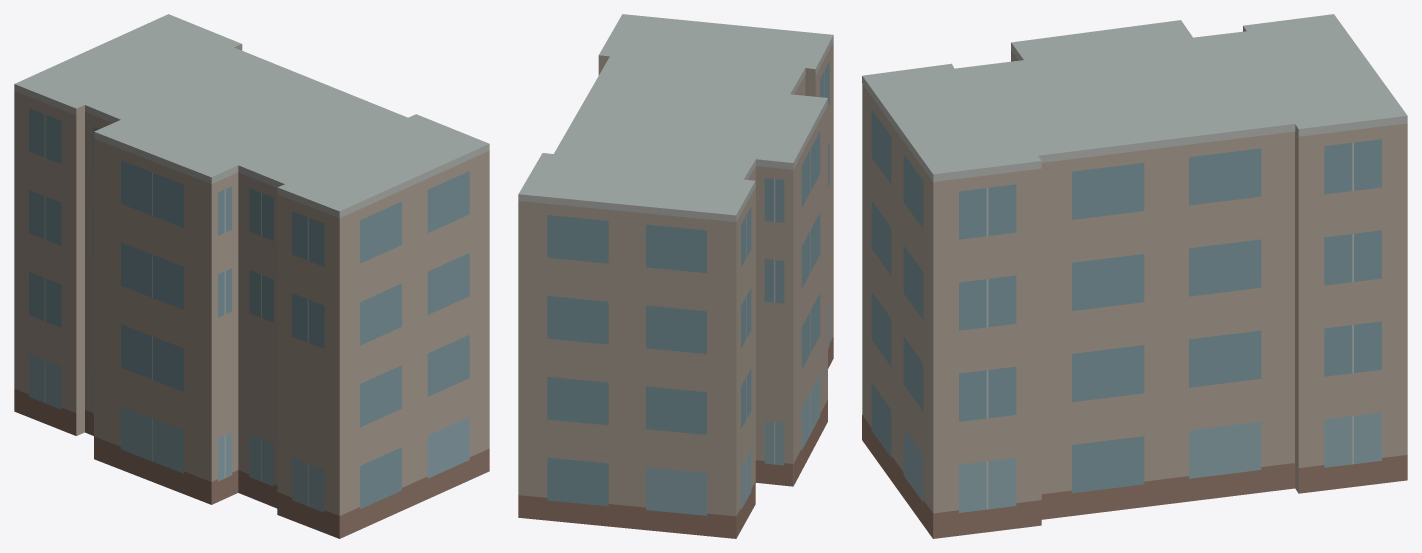
File: survey-upis-32590545.glb
The picture shows the model from 3 angles, left to right: view 1: azimuth 30°, elevation 25°; view 2: azimuth 150°, elevation 25°; view 3: azimuth 270°, elevation 25°; orthographic projection. The views are drawn at different scales.
Visible parts, largest first — view 1: survey-upis-32590545.tmp; view 2: survey-upis-32590545.tmp; view 3: survey-upis-32590545.tmp.
Boxes of the visible parts, x1,y1,x2,y2 form: survey-upis-32590545.tmp: [14, 14, 489, 538]; survey-upis-32590545.tmp: [518, 14, 833, 538]; survey-upis-32590545.tmp: [862, 14, 1407, 538].
Size of the model in its own units: 11.05 by 11.7 by 15.88.
